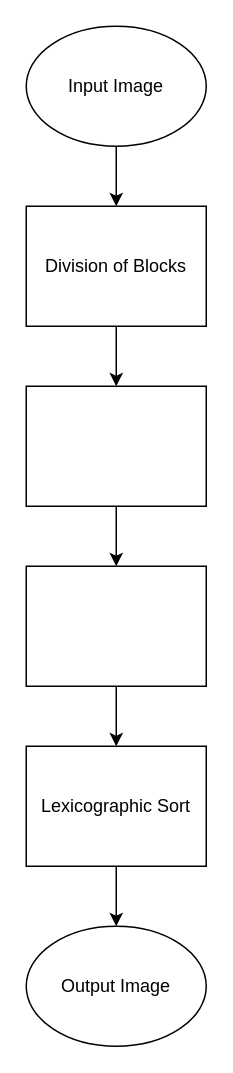
Some shapes in this 233 by 1073 pixel diagram are drawn without their labels. Each missing label, with the box of its shape:
Dimensionality Reduction via Quantization: (25, 565, 206, 686)
Feature Extraction Using DCT: (25, 385, 206, 506)
